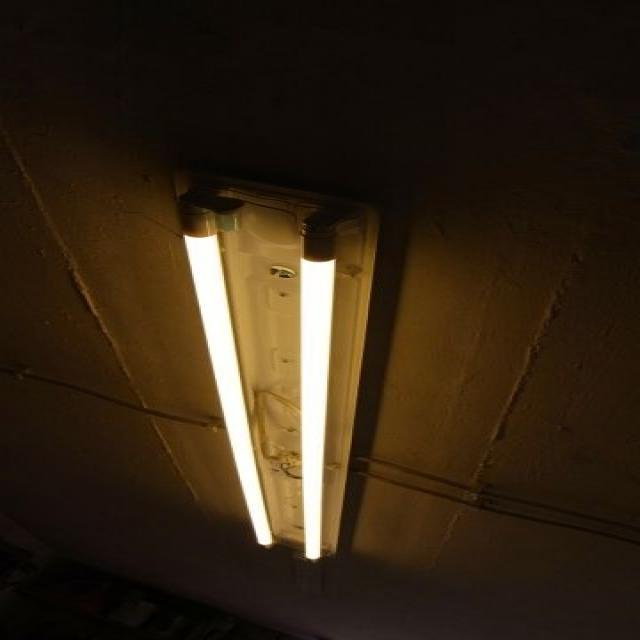light: (175, 175, 381, 562)
